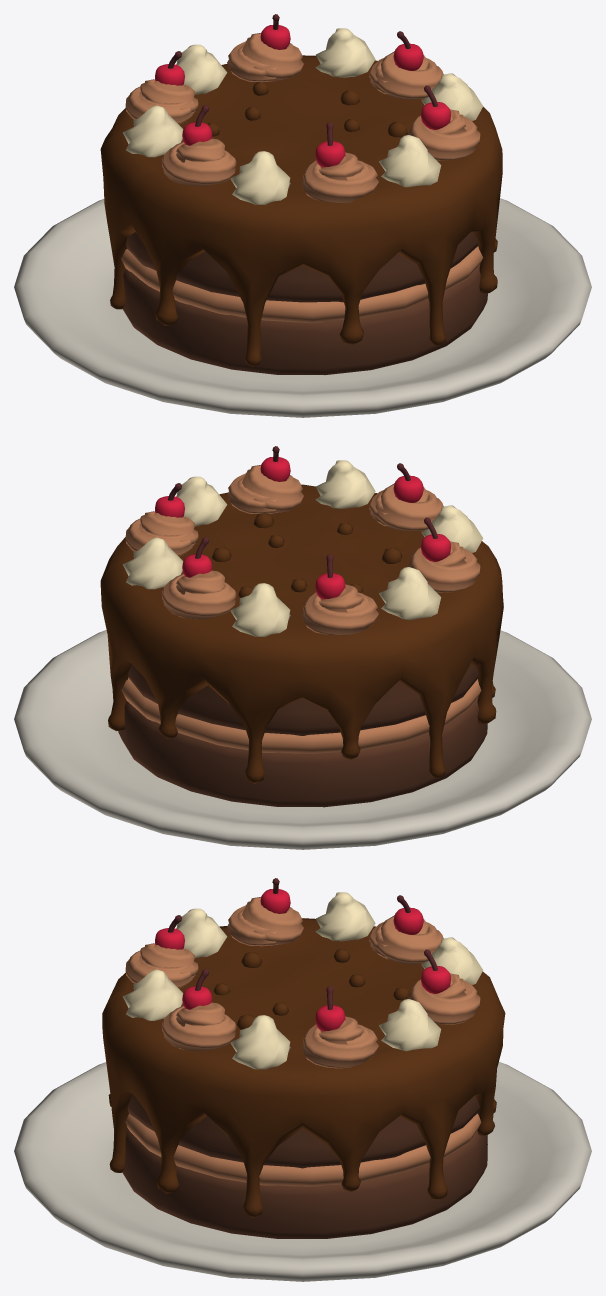
3 views of the same model, one above another, from view 1: azimuth 30°, elevation 25°; view 2: azimuth 150°, elevation 25°; view 3: azimuth 270°, elevation 25° (orthographic).
Visible parts, largest first — view 1: Cake; view 2: Cake; view 3: Cake.
Part boxes in pixels (x1,y1,x2,y2): Cake: (14,14,591,417); Cake: (14,446,591,849); Cake: (14,878,591,1281).
Size of the model in its own units: 0.8483 by 0.412 by 0.8483.
Materials: 1 (1 with a texture image).
